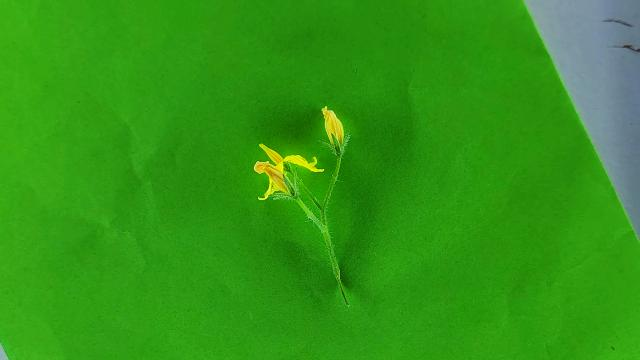Anthesis: (252, 141, 323, 201), (321, 105, 344, 148)
